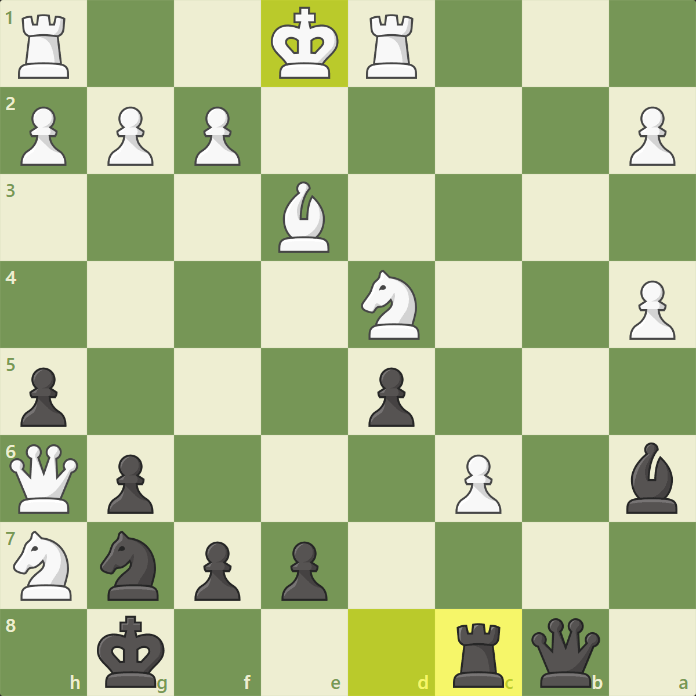B: (274, 180, 333, 256)
K: (268, 4, 341, 82)
N: (359, 269, 422, 343), (10, 530, 73, 603)
P: (452, 453, 504, 516), (626, 279, 678, 342), (625, 104, 677, 167), (189, 105, 241, 168), (103, 105, 155, 168), (16, 105, 68, 168)
Q: (8, 442, 79, 517)
R: (363, 12, 420, 83)
b: (625, 441, 678, 516)
k: (95, 614, 167, 690)
n: (99, 530, 162, 603)
p: (280, 539, 329, 603), (191, 538, 240, 602), (104, 452, 153, 516), (17, 365, 66, 429), (366, 365, 415, 429)
q: (530, 616, 602, 690)
r: (451, 621, 507, 691)
